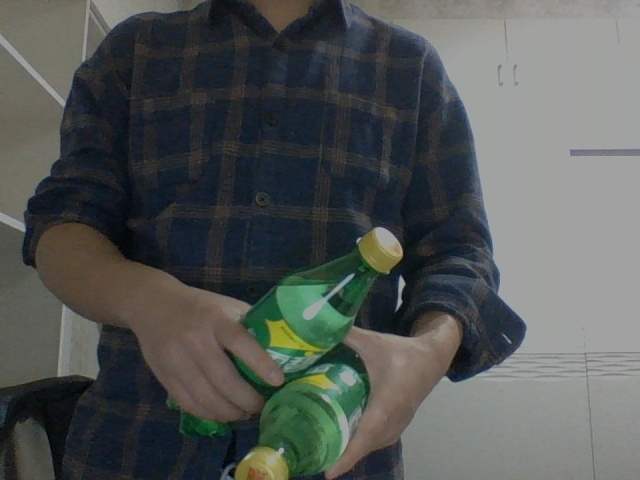Sprite: (166, 227, 405, 441), (232, 357, 373, 478)
